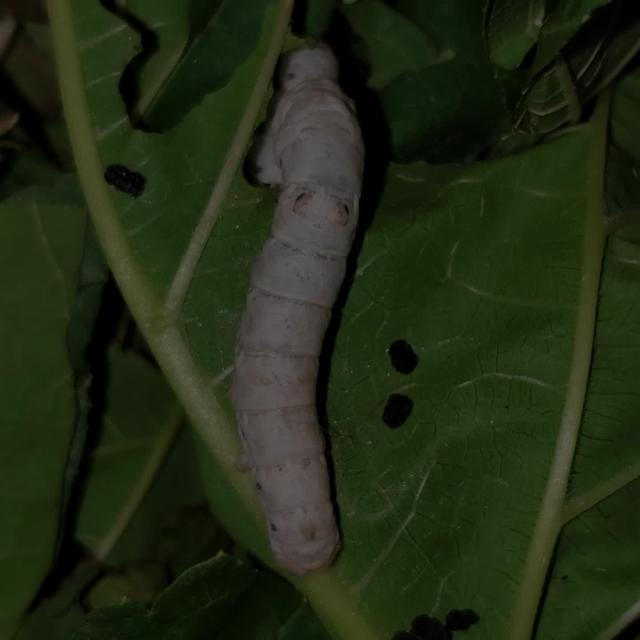Healthy: (224, 69, 390, 583)
